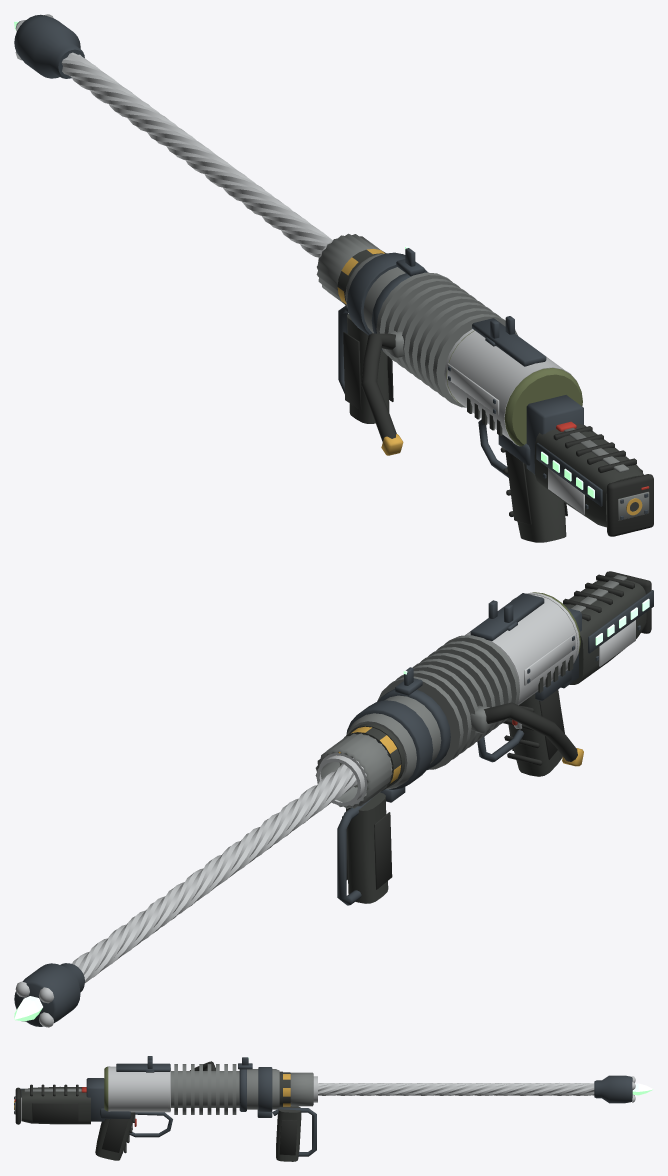
The model's file is vm_barrena.glb.
3 views of the same model, one above another, from view 1: azimuth 30°, elevation 25°; view 2: azimuth 150°, elevation 25°; view 3: azimuth 270°, elevation 25° (orthographic). The views are drawn at different scales.
Visible parts, largest first — view 1: barrena__steel_park, bit_shank, casing, barrena__steel_blued, barrena__polymer, battery__polymer, battery__steel_blued, bit_head, battery__rubber, barrena__rubber, hose_tube, chuck_knurl (+3 smaller); view 2: barrena__steel_park, bit_shank, barrena__steel_blued, barrena__polymer, casing, chuck_knurl, battery__polymer, barrena__rubber, bit_head, hose_tube, battery__rubber, battery__steel_blued (+4 smaller); view 3: barrena__steel_park, bit_shank, casing, barrena__steel_blued, battery__polymer, barrena__polymer, battery__rubber, barrena__rubber, bit_head, chuck_knurl, battery__steel_blued, chuck_haz (+3 smaller).
Boxes of the visible parts, bbox=[...] form: barrena__steel_park: bbox=[345, 253, 517, 407]; bit_shank: bbox=[61, 52, 332, 257]; casing: bbox=[444, 329, 582, 446]; barrena__steel_blued: bbox=[338, 248, 546, 466]; barrena__polymer: bbox=[347, 313, 566, 542]; battery__polymer: bbox=[534, 424, 643, 527]; battery__steel_blued: bbox=[526, 395, 648, 519]; bit_head: bbox=[14, 14, 84, 78]; battery__rubber: bbox=[553, 426, 653, 536]; barrena__rubber: bbox=[343, 332, 567, 524]; hose_tube: bbox=[361, 333, 396, 441]; chuck_knurl: bbox=[316, 233, 380, 303]; barrena__steel_park: bbox=[346, 635, 519, 789]; bit_shank: bbox=[72, 758, 366, 983]; barrena__steel_blued: bbox=[337, 593, 574, 905]; barrena__polymer: bbox=[346, 655, 573, 903]; casing: bbox=[465, 592, 580, 705]; chuck_knurl: bbox=[315, 733, 392, 808]; battery__polymer: bbox=[564, 577, 646, 684]; barrena__rubber: bbox=[342, 690, 564, 889]; bit_head: bbox=[14, 963, 84, 1026]; hose_tube: bbox=[484, 702, 577, 761]; battery__rubber: bbox=[563, 571, 651, 633]; battery__steel_blued: bbox=[561, 590, 653, 688]; barrena__steel_park: bbox=[171, 1064, 279, 1114]; bit_shank: bbox=[318, 1083, 594, 1095]; casing: bbox=[104, 1066, 170, 1112]; barrena__steel_blued: bbox=[100, 1056, 316, 1156]; battery__polymer: bbox=[21, 1086, 90, 1124]; barrena__polymer: bbox=[95, 1106, 301, 1161]; battery__rubber: bbox=[15, 1084, 78, 1124]; barrena__rubber: bbox=[101, 1115, 297, 1155]; bit_head: bbox=[594, 1075, 632, 1103]; chuck_knurl: bbox=[290, 1072, 313, 1106]; battery__steel_blued: bbox=[14, 1078, 104, 1121]; chuck_haz: bbox=[279, 1071, 290, 1106].
Size of the model in its own units: 0.1364 by 0.1814 by 1.04.
